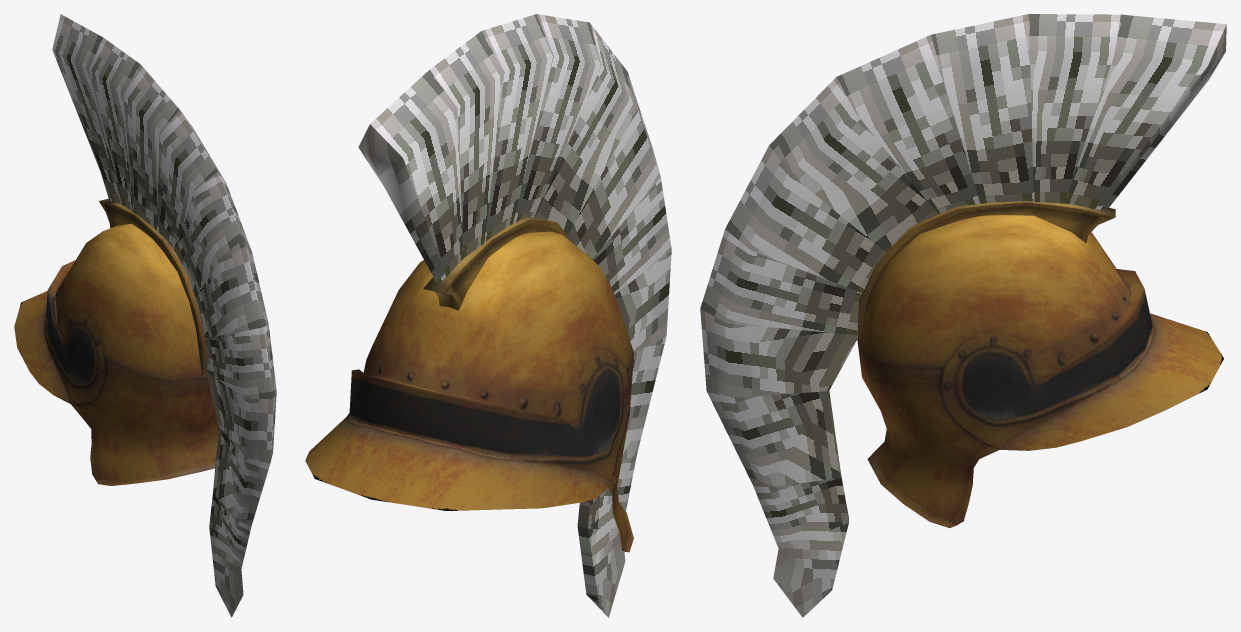
The model's file is helm_hele_thracian_br_crested.glb.
3 renders of one model, left to right at view 1: azimuth 30°, elevation 25°; view 2: azimuth 150°, elevation 25°; view 3: azimuth 270°, elevation 25°, orthographic. The views are drawn at different scales.
Visible parts, largest first — view 1: helm_hele_thracian_br_crested_part2, helm_hele_thracian_br_crested_part0, helm_hele_thracian_br_crested_part1; view 2: helm_hele_thracian_br_crested_part2, helm_hele_thracian_br_crested_part0, helm_hele_thracian_br_crested_part1; view 3: helm_hele_thracian_br_crested_part2, helm_hele_thracian_br_crested_part0, helm_hele_thracian_br_crested_part1.
Part boxes in pixels (left/top/right/bottom): helm_hele_thracian_br_crested_part2: left=52, top=14, right=276, bottom=617; helm_hele_thracian_br_crested_part0: left=14, top=223, right=218, bottom=485; helm_hele_thracian_br_crested_part1: left=99, top=198, right=207, bottom=380; helm_hele_thracian_br_crested_part2: left=358, top=14, right=671, bottom=617; helm_hele_thracian_br_crested_part0: left=305, top=231, right=633, bottom=552; helm_hele_thracian_br_crested_part1: left=423, top=217, right=570, bottom=310; helm_hele_thracian_br_crested_part2: left=700, top=14, right=1226, bottom=617; helm_hele_thracian_br_crested_part0: left=857, top=215, right=1223, bottom=528; helm_hele_thracian_br_crested_part1: left=857, top=201, right=1115, bottom=345.
Bounding box in the file's own units: 0.4941 × 1.27 × 1.
Materials: 3 (3 with a texture image).
